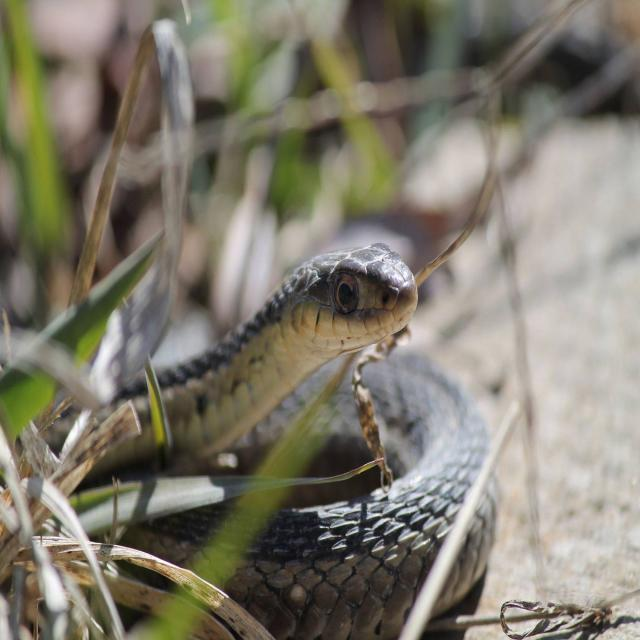Snake: (20, 209, 501, 639)
